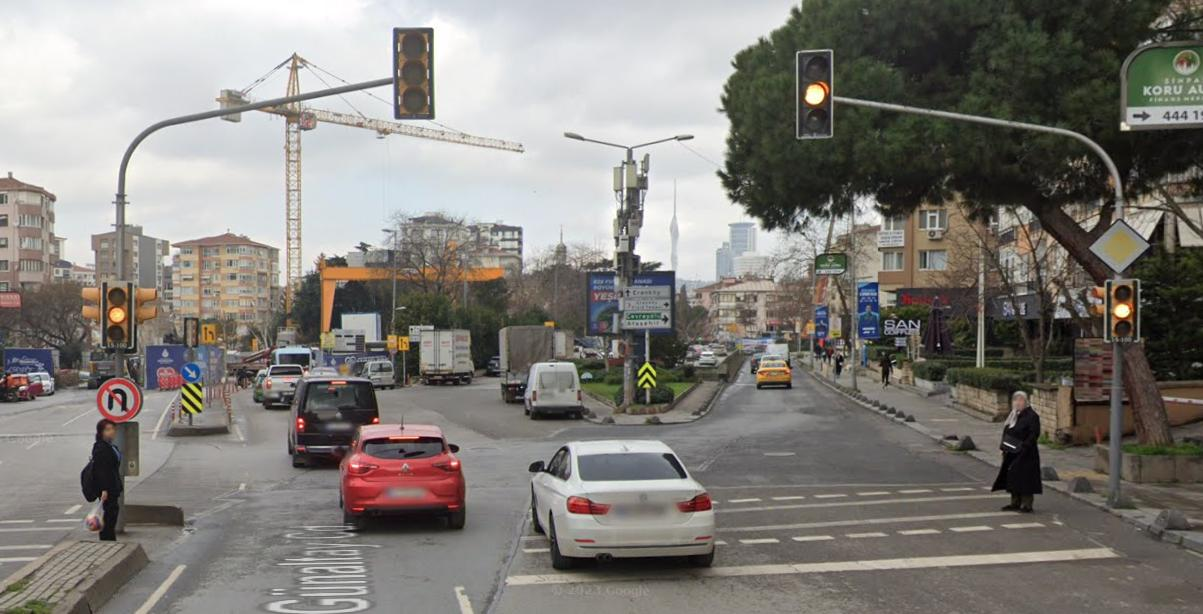yellowlight: (798, 50, 838, 139), (100, 281, 138, 347), (1105, 278, 1139, 342)
